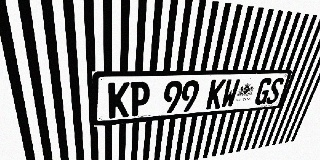9: (162, 80, 183, 114), (179, 80, 200, 112)
G: (253, 78, 273, 105)
K: (108, 82, 130, 118), (206, 79, 226, 110)
P: (129, 81, 151, 117)
S: (265, 78, 285, 104)
W: (220, 79, 241, 108)
